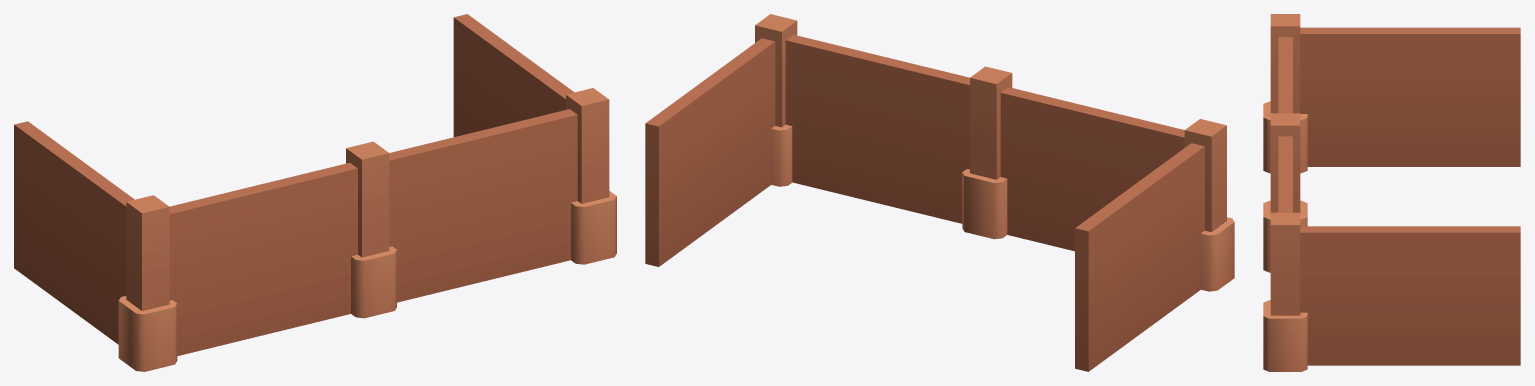
Rendered from fence-1x2.glb.
The picture shows the model from 3 angles, left to right: view 1: azimuth 30°, elevation 25°; view 2: azimuth 150°, elevation 25°; view 3: azimuth 270°, elevation 25°; orthographic projection. The views are drawn at different scales.
Parts seen in each view (by area): view 1: fence-1x2; view 2: fence-1x2; view 3: fence-1x2.
Boxes of the visible parts, left/top/right/bottom form: fence-1x2: left=14, top=14, right=616, bottom=371; fence-1x2: left=645, top=14, right=1234, bottom=371; fence-1x2: left=1263, top=14, right=1520, bottom=371.
Bounding box in the file's own units: 0.875 × 0.2701 × 0.4376.
Materials: 1 (1 with a texture image).
